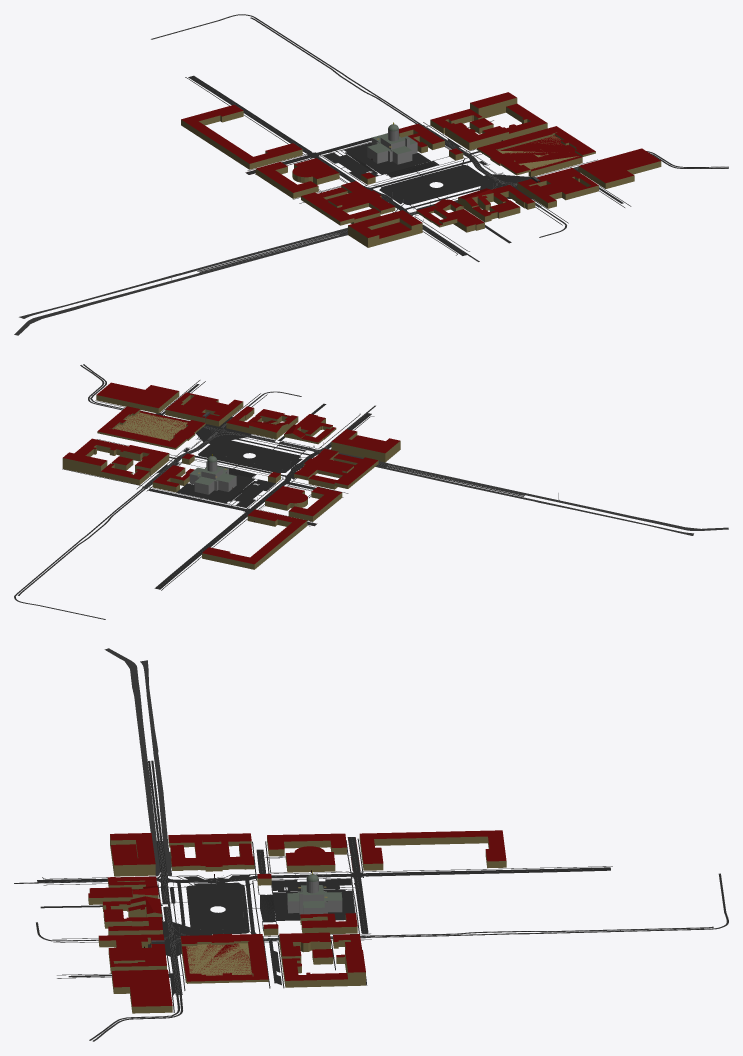
File: senaatintori.obj
3 views of the same model, one above another, from view 1: azimuth 30°, elevation 25°; view 2: azimuth 150°, elevation 25°; view 3: azimuth 270°, elevation 25° (orthographic). The views are drawn at different scales.
Parts seen in each view (by area): view 1: Building604, Building Topelia, Building Helsingin yliopiston päärakennus, RoadArea Senaatintori, RoadArea Aleksanterinkatu, Building606, Building631, Building Remanderin talo, Building Helsingin tuomiokirkko, Road Unioninkatu, Building Arppeanum, Building634 (+8 smaller); view 2: Building604, Building Helsingin yliopiston päärakennus, Building Topelia, RoadArea Senaatintori, RoadArea Aleksanterinkatu, Building606, Building631, Road Unioninkatu, Building Helsingin tuomiokirkko, Building634, Building Remanderin talo, Building Arppeanum (+11 smaller); view 3: Building604, Building Topelia, RoadArea Senaatintori, Building Helsingin yliopiston päärakennus, RoadArea Aleksanterinkatu, Building606, Building631, Road Unioninkatu, Building634, Building Helsingin tuomiokirkko, Building Kansalliskirjasto, Building Arppeanum (+12 smaller).
Part boxes in pixels (x1,y1,x2,y2): Building604: [477, 126, 595, 177]; Building Topelia: [181, 104, 302, 169]; Building Helsingin yliopiston päärakennus: [301, 181, 395, 225]; RoadArea Senaatintori: [381, 165, 491, 204]; RoadArea Aleksanterinkatu: [14, 227, 347, 335]; Building606: [578, 148, 661, 188]; Building631: [348, 210, 422, 247]; Building Remanderin talo: [523, 175, 584, 208]; Building Helsingin tuomiokirkko: [367, 133, 417, 164]; Road Unioninkatu: [188, 75, 467, 255]; Building Arppeanum: [445, 122, 508, 150]; Building634: [255, 162, 318, 198]; Building604: [97, 406, 205, 449]; Building Helsingin yliopiston päärakennus: [294, 448, 378, 489]; Building Topelia: [202, 509, 307, 569]; RoadArea Senaatintori: [198, 438, 300, 473]; RoadArea Aleksanterinkatu: [338, 452, 728, 535]; Building606: [96, 382, 179, 413]; Building631: [331, 429, 400, 462]; Road Unioninkatu: [154, 413, 371, 589]; Building Helsingin tuomiokirkko: [189, 462, 236, 494]; Building634: [288, 487, 342, 521]; Building Remanderin talo: [184, 395, 243, 422]; Building Arppeanum: [123, 445, 169, 475]; Building604: [180, 933, 268, 983]; Building Topelia: [359, 830, 506, 870]; RoadArea Senaatintori: [186, 884, 249, 934]; Building Helsingin yliopiston päärakennus: [168, 833, 254, 871]; RoadArea Aleksanterinkatu: [104, 648, 171, 876]; Building606: [112, 969, 172, 1013]; Building631: [110, 833, 155, 876]; Road Unioninkatu: [37, 867, 610, 883]; Building634: [267, 833, 346, 856]; Building Helsingin tuomiokirkko: [287, 885, 342, 914]; Building Kansalliskirjasto: [285, 846, 335, 872]; Building Arppeanum: [279, 932, 330, 964].
Size of the model in its own units: 936 by 41 by 719.
